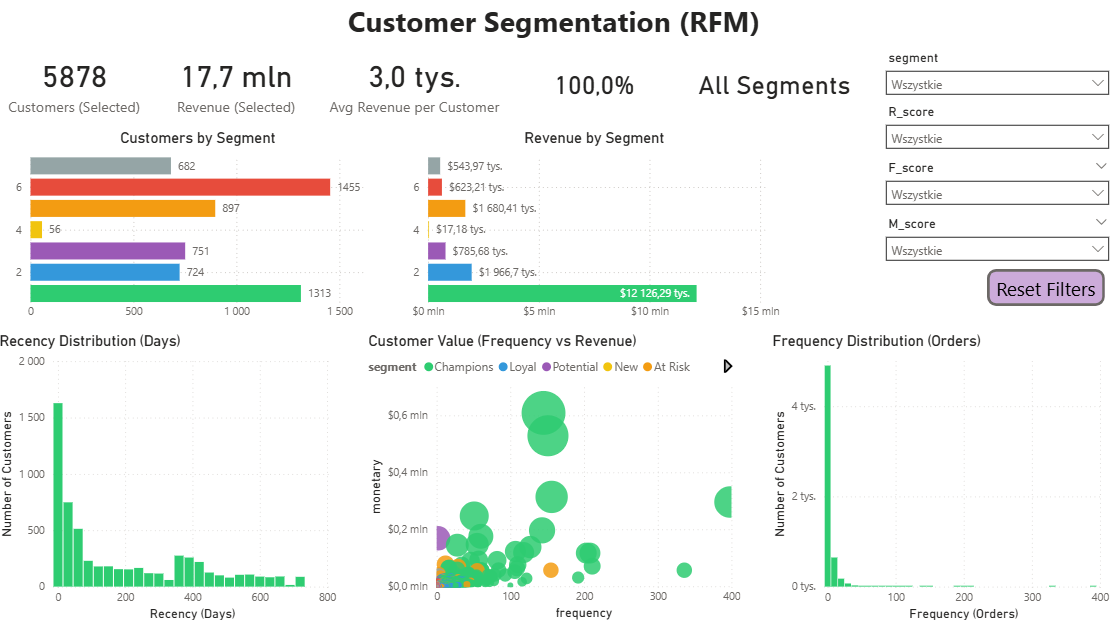

The dashboard page shown, as its layout file describes it:
{"tool":"powerbi","page":{"name":"Customer Segmentation (RFM)","canvas":[1280,720],"ordinal":0},"visuals":[{"type":"card","fields":{"Values":["analytics vw_rfm_segments.Total Customers"]},"box":[9.4,67.2,178.6,83.3],"z":0},{"type":"card","fields":{"Values":["analytics vw_rfm_segments.Total Revenue"]},"box":[188,67.2,185.4,83.3],"z":1000},{"type":"card","fields":{"Values":["analytics vw_rfm_segments.Avg Revenue"]},"box":[373.4,67.2,217.6,83.3],"z":2000},{"type":"card","fields":{"Values":["analytics vw_rfm_segments.Selected Segment %"]},"box":[591,67.2,188,83.3],"z":3000},{"type":"card","fields":{"Values":["analytics vw_rfm_segments.Selected Segment Name"]},"box":[779,67.2,220.3,83.3],"z":4000},{"type":"slicer","fields":{"Values":["analytics vw_rfm_segments.segment"]},"box":[1004.1,67.2,272.1,74.5],"z":5000},{"type":"slicer","fields":{"Values":["analytics vw_rfm_segments.R_score"]},"box":[1004.1,128,272.1,74.5],"z":6000},{"type":"slicer","fields":{"Values":["analytics vw_rfm_segments.F_score"]},"box":[1004.1,190.3,272.1,74.5],"z":7000},{"type":"slicer","fields":{"Values":["analytics vw_rfm_segments.M_score"]},"box":[1004.1,254.1,272.1,74.5],"z":8000},{"type":"clusteredBarChart","title":"Customers by Segment","fields":{"Y":["CountNonNull(analytics vw_rfm_segments.Customer_ID)"],"Category":["Segment_Map.Segment Sort"]},"box":[26.9,159.8,421.7,224.3],"z":9000},{"type":"clusteredBarChart","title":"Revenue by Segment","fields":{"Y":["Sum(analytics vw_rfm_segments.monetary)"],"Category":["Segment_Map.Segment Sort"]},"box":[463.4,159.8,443.2,224.3],"z":10000},{"type":"actionButton","title":"Reset","box":[1128.2,318.3,133,41.6],"z":11000},{"type":"scatterChart","title":"Customer Value (Frequency vs Revenue)","fields":{"X":["analytics vw_rfm_segments.frequency"],"Y":["analytics vw_rfm_segments.monetary"],"Size":["Sum(analytics vw_rfm_segments.monetary)1"],"Series":["Segment_Map.segment"]},"box":[425.8,389.5,429.8,330.4],"z":12000},{"type":"actionButton","box":[0,0,100,40],"z":13000},{"type":"clusteredColumnChart","title":"Recency Distribution (Days)","fields":{"Y":["CountNonNull(analytics vw_rfm_segments.Customer_ID)"],"Category":["analytics vw_rfm_segments.recency (pliki binarne)"]},"box":[9.4,389.5,390.8,330.4],"z":14000},{"type":"clusteredColumnChart","title":"Frequency Distribution (Orders)","fields":{"Y":["CountNonNull(analytics vw_rfm_segments.Customer_ID)"],"Category":["analytics vw_rfm_segments.frequency (pliki binarne)"]},"box":[881.1,389.5,390.8,330.4],"z":15000},{"type":"textbox","box":[0,10.7,1280,56.4],"z":16000}]}

Visuals, with their boxes in screenshot pixels (x1, y1, x2, y2), scaled from the page's 1280x720 canvas onto the 1119x623 screenshot:
card - analytics vw_rfm_segments.Total Customers: 8:58:164:130
card - analytics vw_rfm_segments.Total Revenue: 164:58:326:130
card - analytics vw_rfm_segments.Avg Revenue: 326:58:517:130
card - analytics vw_rfm_segments.Selected Segment %: 517:58:681:130
card - analytics vw_rfm_segments.Selected Segment Name: 681:58:874:130
slicer - analytics vw_rfm_segments.segment: 878:58:1116:123
slicer - analytics vw_rfm_segments.R_score: 878:111:1116:175
slicer - analytics vw_rfm_segments.F_score: 878:165:1116:229
slicer - analytics vw_rfm_segments.M_score: 878:220:1116:284
"Customers by Segment" clusteredBarChart: 24:138:392:332
"Revenue by Segment" clusteredBarChart: 405:138:793:332
"Reset" actionButton: 986:275:1103:311
"Customer Value (Frequency vs Revenue)" scatterChart: 372:337:748:622
actionButton: 0:0:87:35
"Recency Distribution (Days)" clusteredColumnChart: 8:337:350:622
"Frequency Distribution (Orders)" clusteredColumnChart: 770:337:1112:622
textbox: 0:9:1118:58
